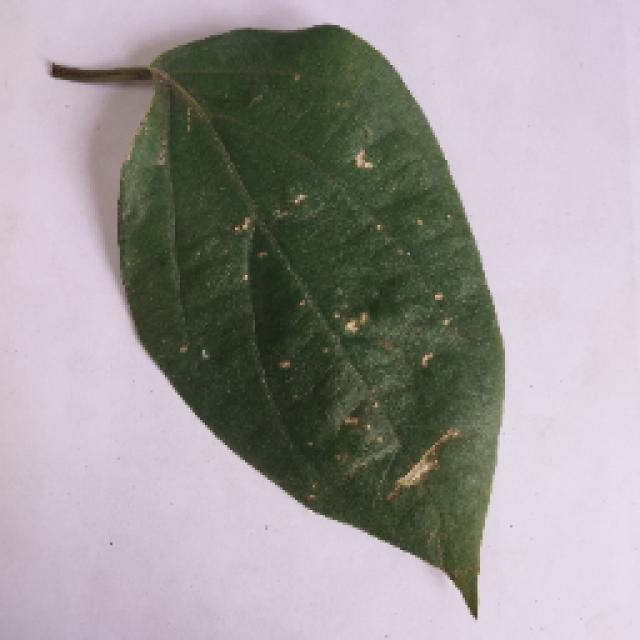pollu-disease: (87, 32, 495, 612)
